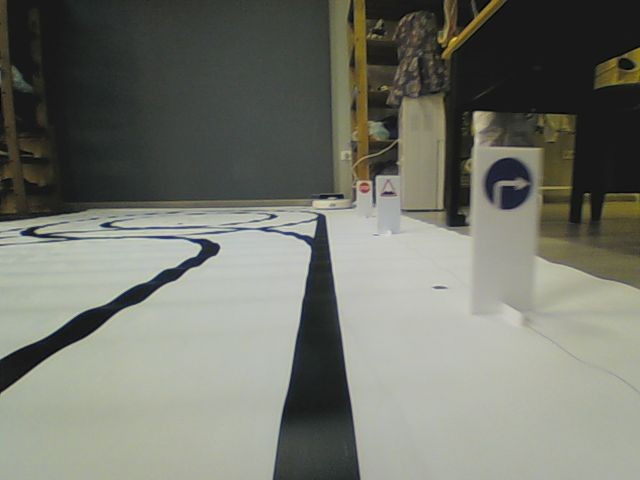Nerov: (380, 178, 396, 197)
Right: (481, 155, 533, 211)
